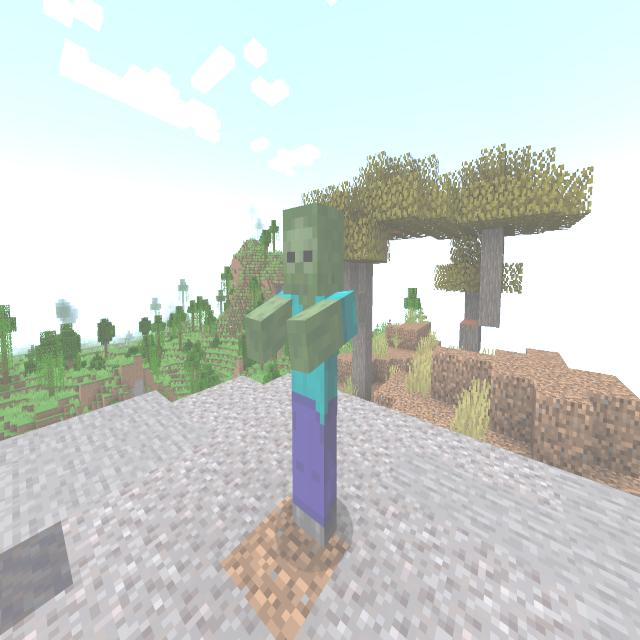Zombie: (236, 190, 362, 562)
